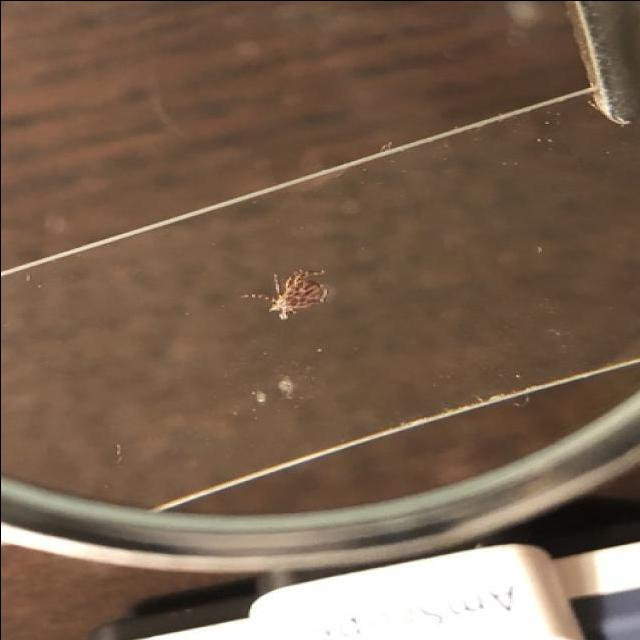Dermacentor Reticulatus-M: (237, 266, 328, 319)
